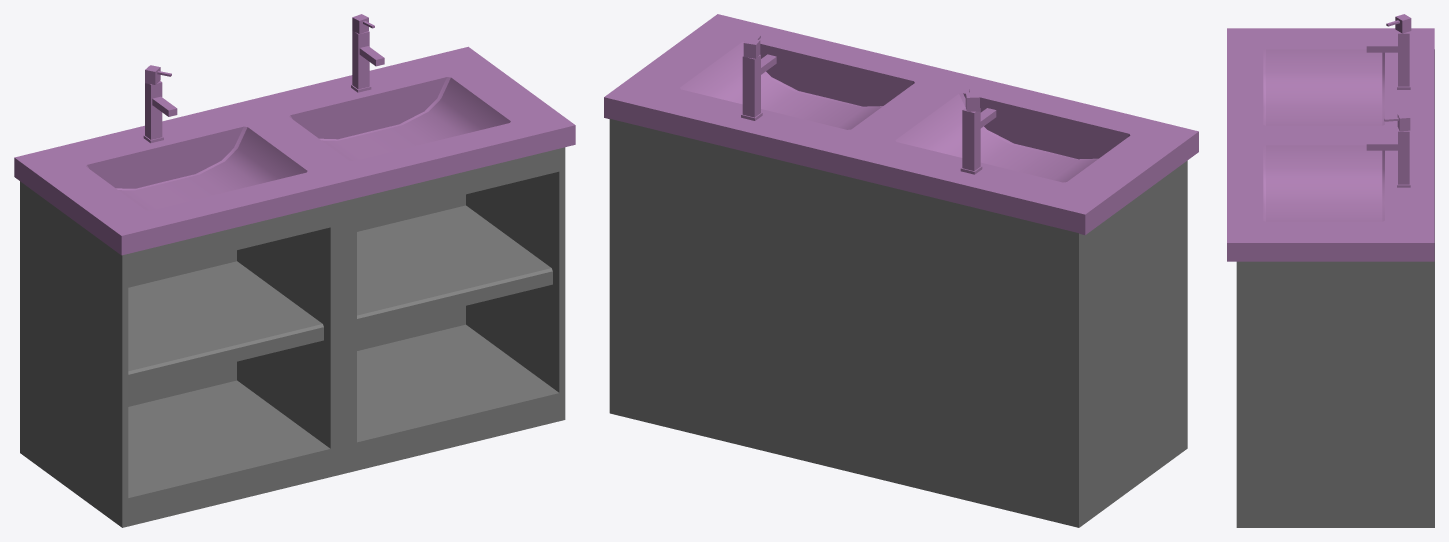
File: SalleDeBainLavaboDouble.fbx
3 renders of one model, left to right at view 1: azimuth 30°, elevation 25°; view 2: azimuth 150°, elevation 25°; view 3: azimuth 270°, elevation 25°, orthographic. The views are drawn at different scales.
Visible parts, largest first — view 1: SalleDeBainLavaboDouble; view 2: SalleDeBainLavaboDouble; view 3: SalleDeBainLavaboDouble.
Boxes of the visible parts, box(x1,y1,x2,y2) form: SalleDeBainLavaboDouble: box(14, 14, 575, 527); SalleDeBainLavaboDouble: box(604, 14, 1198, 527); SalleDeBainLavaboDouble: box(1227, 14, 1434, 527).
Size of the model in its own units: 154 by 119 by 62.92.
